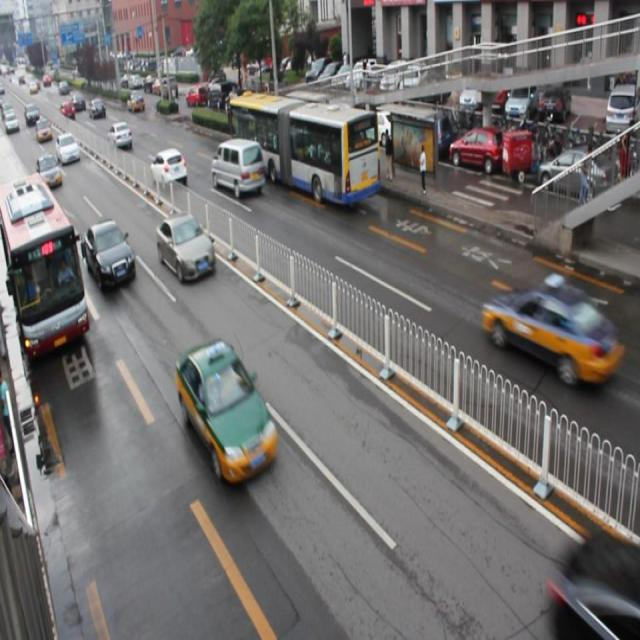car: (482, 274, 616, 387), (175, 339, 278, 485), (156, 213, 216, 284), (85, 217, 134, 289), (150, 147, 188, 187), (38, 152, 63, 188), (109, 122, 131, 148)
truck: (210, 136, 268, 197)
van: (229, 86, 380, 208), (1, 175, 90, 361)
